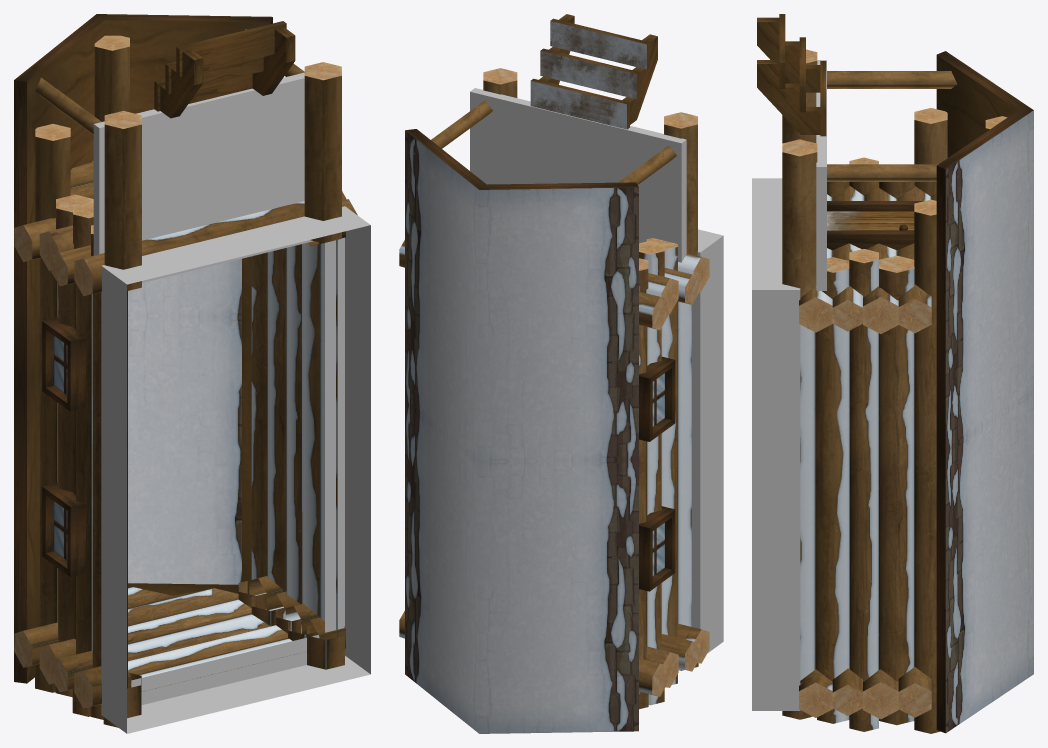
Rendered from Log_House_B.fbx.
The picture shows the model from 3 angles, left to right: view 1: azimuth 30°, elevation 25°; view 2: azimuth 150°, elevation 25°; view 3: azimuth 270°, elevation 25°; orthographic projection. The views are drawn at different scales.
Parts seen in each view (by area): view 1: Log_House_B; view 2: Log_House_B; view 3: Log_House_B.
Part boxes in pixels (x1,y1,x2,y2): Log_House_B: (14,14,370,733); Log_House_B: (399,14,723,733); Log_House_B: (752,14,1033,733).
Bounding box in the file's own units: 51.8 × 121 × 48.23.
